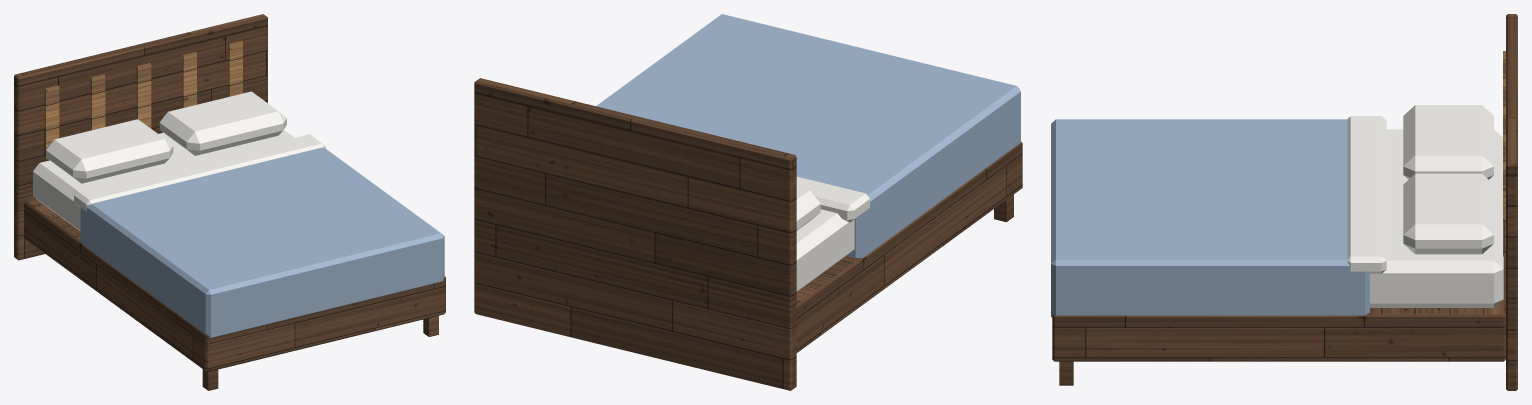
File: bed.glb
The picture shows the model from 3 angles, left to right: view 1: azimuth 30°, elevation 25°; view 2: azimuth 150°, elevation 25°; view 3: azimuth 270°, elevation 25°; orthographic projection. The views are drawn at different scales.
Visible parts, largest first — view 1: bed_bed_b, bed_dkwood, bed_bed_w, bed_wood; view 2: bed_dkwood, bed_bed_b, bed_bed_w; view 3: bed_bed_b, bed_bed_w, bed_dkwood, bed_wood.
Part boxes in pixels (x1=…): bed_bed_b: x1=80, y1=147, x2=444, y2=338; bed_dkwood: x1=14, y1=14, x2=445, y2=390; bed_bed_w: x1=33, y1=91, x2=325, y2=230; bed_wood: x1=44, y1=40, x2=242, y2=159; bed_dkwood: x1=474, y1=78, x2=1022, y2=390; bed_bed_b: x1=596, y1=14, x2=1020, y2=258; bed_bed_w: x1=796, y1=176, x2=869, y2=291; bed_bed_b: x1=1051, y1=119, x2=1369, y2=317; bed_bed_w: x1=1347, y1=105, x2=1503, y2=307; bed_dkwood: x1=1052, y1=14, x2=1517, y2=390; bed_wood: x1=1503, y1=51, x2=1505, y2=256.
Size of the model in its own units: 1.5 by 1.05 by 1.96.
4 materials, 2 textured.
